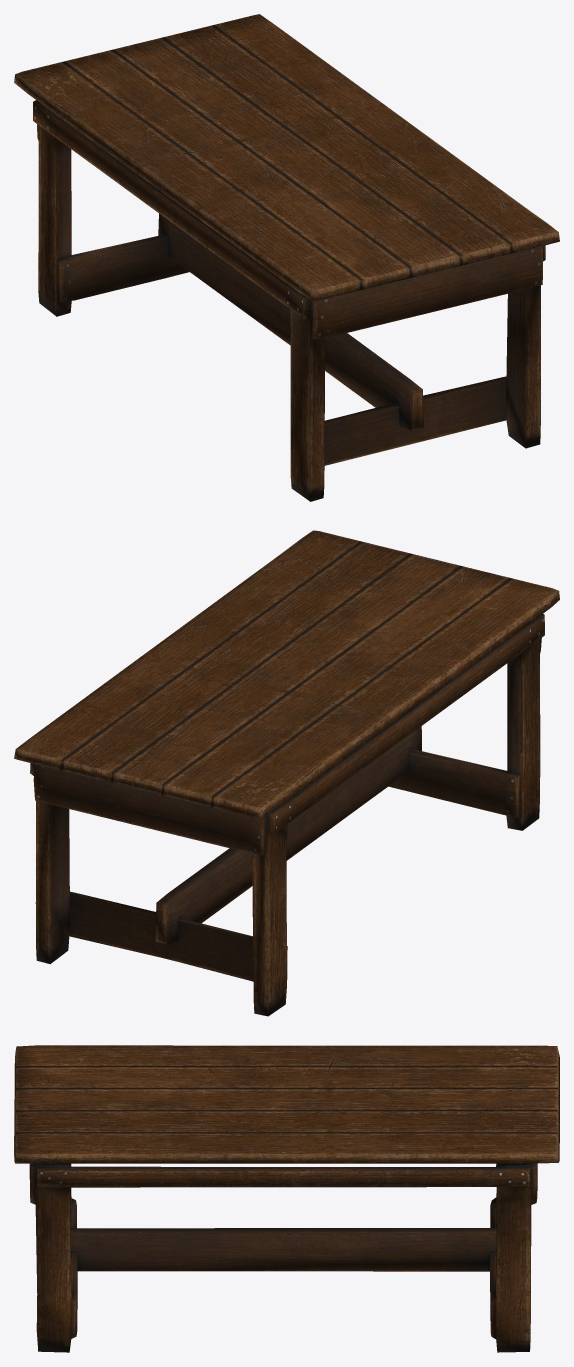
The model's file is wooden_table_1.glb.
3 views of the same model, one above another, from view 1: azimuth 30°, elevation 25°; view 2: azimuth 150°, elevation 25°; view 3: azimuth 270°, elevation 25° (orthographic). The views are drawn at different scales.
Parts seen in each view (by area): view 1: Wooden Table; view 2: Wooden Table; view 3: Wooden Table.
Boxes of the visible parts, left/top/right/bottom form: Wooden Table: left=14, top=14, right=559, bottom=501; Wooden Table: left=14, top=530, right=559, bottom=1016; Wooden Table: left=14, top=1045, right=559, bottom=1352.
Bounding box in the file's own units: 1.15 × 0.9801 × 2.41.
Materials: 1 (1 with a texture image).
